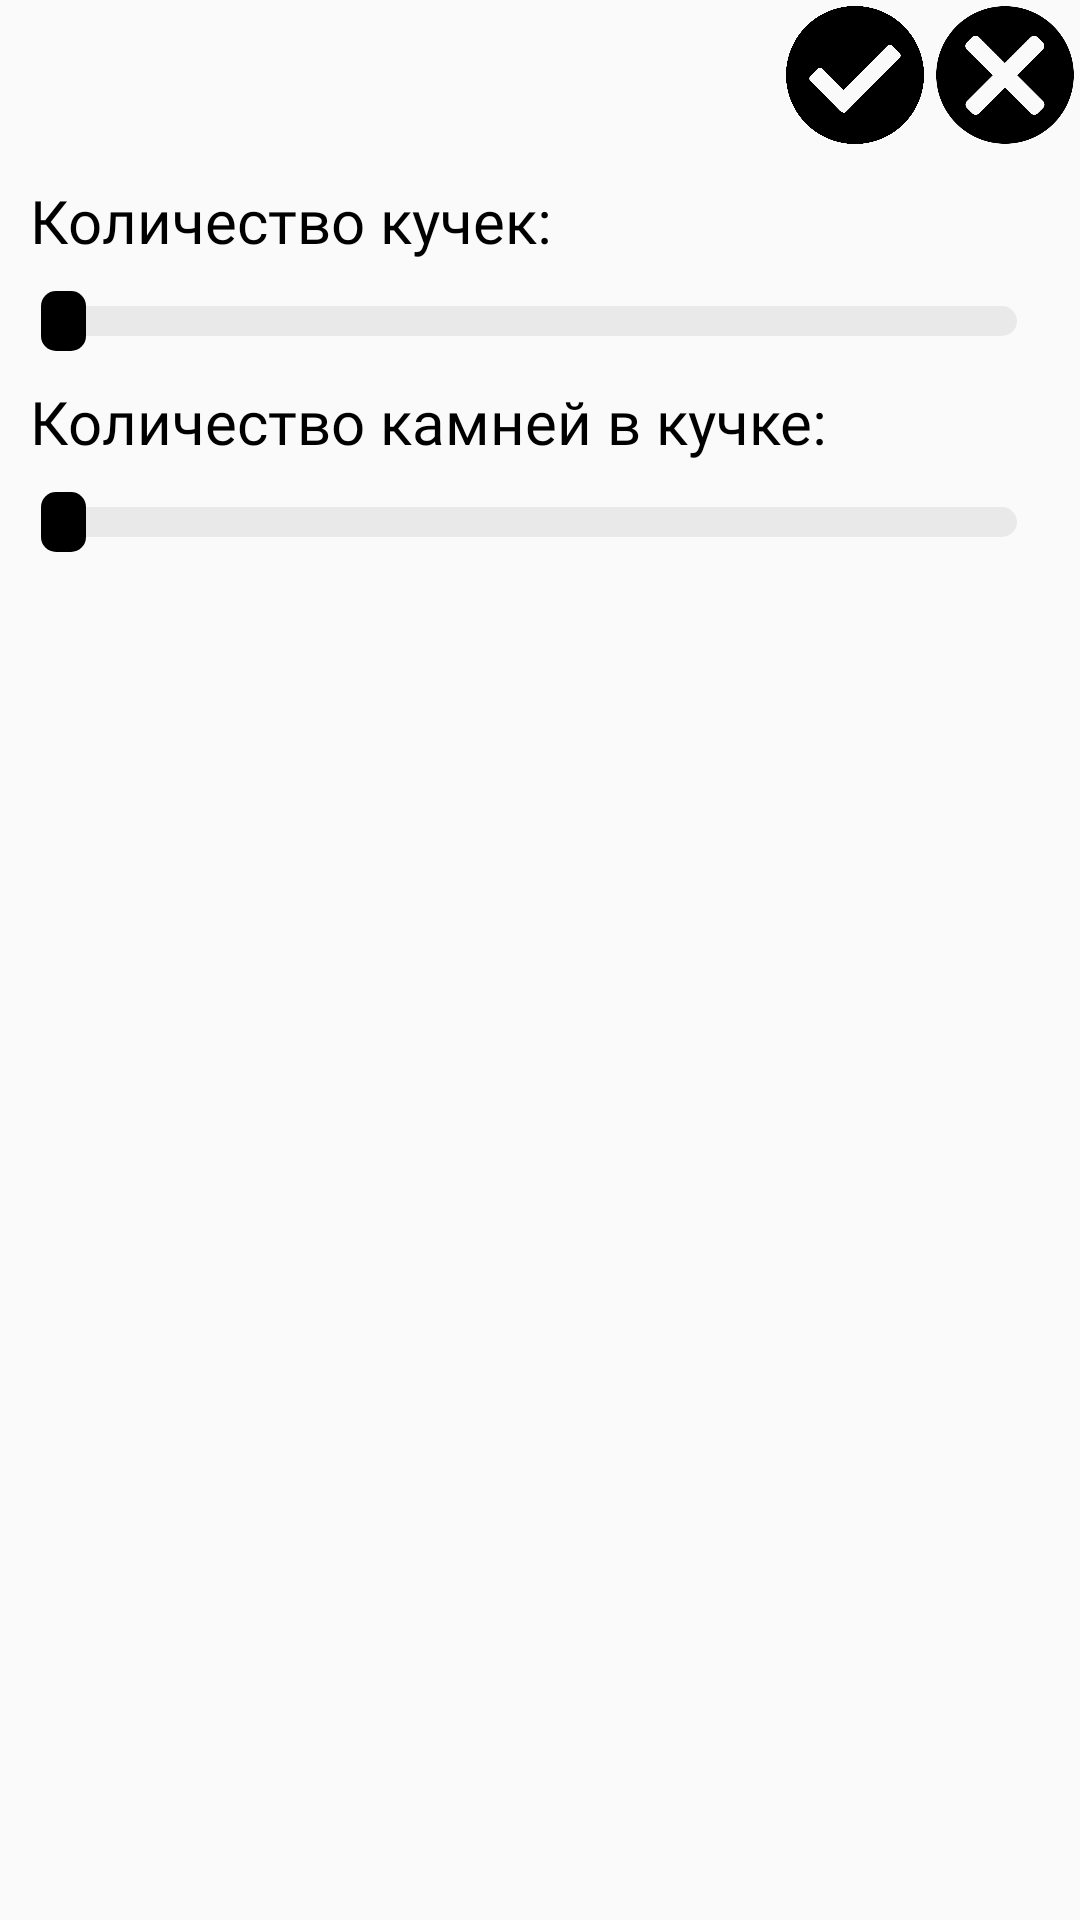

Where to tap for icons on this 1080×1920 app screen, as (x,y):
close: (1005,75)
